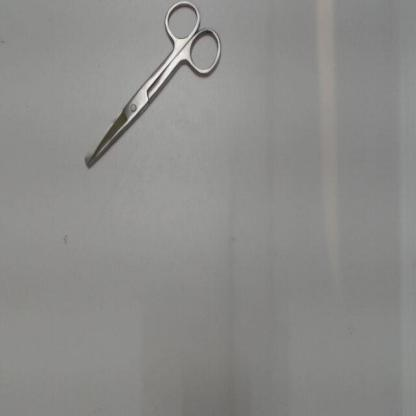Dressing Scissors: (75, 0, 232, 183)
